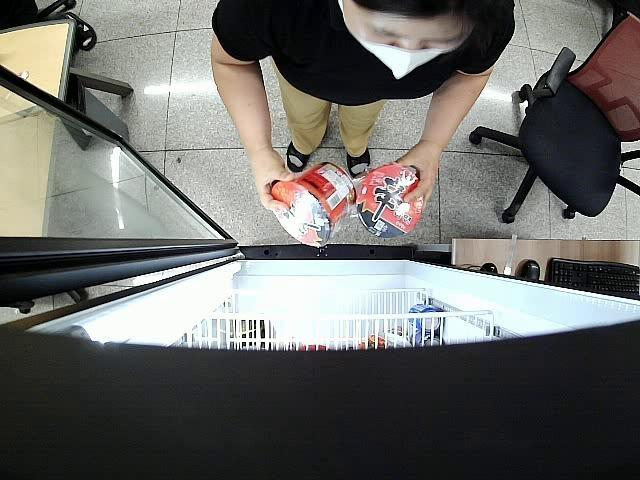01_ShinRamen_L: (270, 162, 356, 246), (358, 163, 424, 240)
